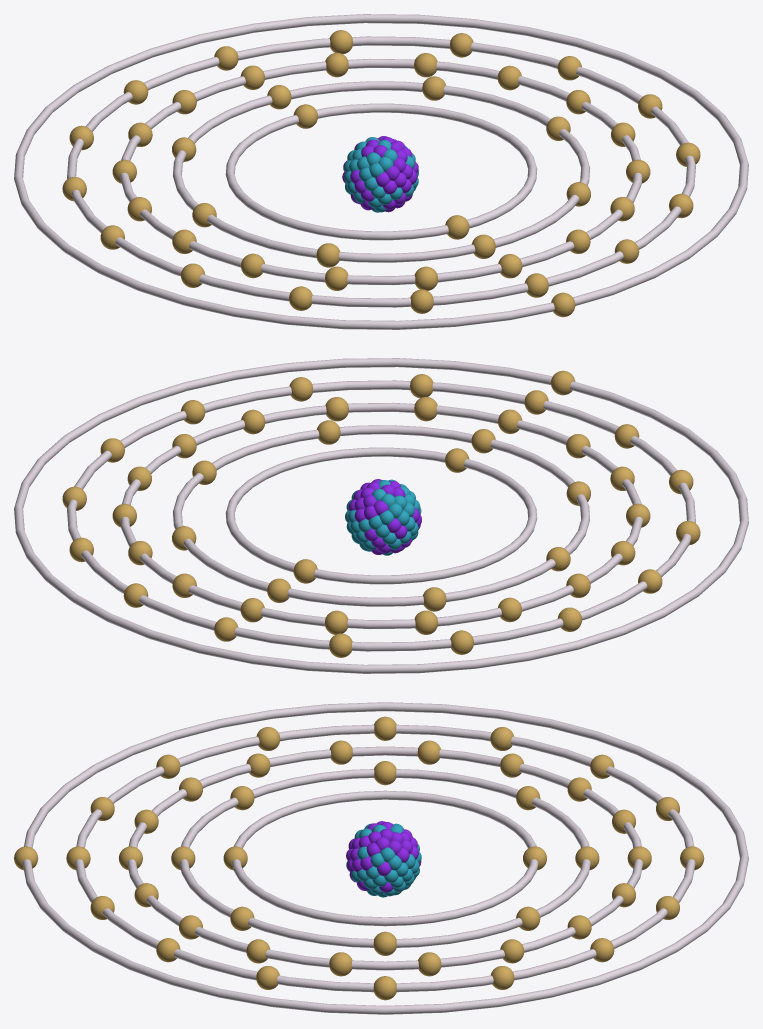
Rendered from rodio.glb.
3 renders of one model, top to bottom at view 1: azimuth 30°, elevation 25°; view 2: azimuth 150°, elevation 25°; view 3: azimuth 270°, elevation 25°, orthographic.
Parts seen in each view (by area): view 1: Orbita_5, Orbita_4, Orbita_3, Orbita_2, Orbita_1, Nucleo_Completo; view 2: Orbita_5, Orbita_4, Orbita_3, Orbita_2, Orbita_1, Nucleo_Completo; view 3: Orbita_5, Orbita_4, Orbita_3, Orbita_2, Orbita_1, Nucleo_Completo.
Part boxes in pixels (x1,y1,x2,y2): Orbita_5: (14,14,748,329); Orbita_4: (67,36,695,307); Orbita_3: (120,58,642,285); Orbita_2: (173,81,589,262); Orbita_1: (225,103,537,240); Nucleo_Completo: (342,136,418,212); Orbita_5: (14,358,748,673); Orbita_4: (67,380,695,651); Orbita_3: (120,402,642,629); Orbita_2: (173,425,589,606); Orbita_1: (225,447,537,584); Nucleo_Completo: (345,479,421,555); Orbita_5: (22,702,748,1014); Orbita_4: (75,724,695,992); Orbita_3: (127,746,643,970); Orbita_2: (179,769,590,947); Orbita_1: (232,790,538,926); Nucleo_Completo: (346,821,421,897).
Bounding box in the file's own units: 4.86 × 0.5081 × 4.91.
